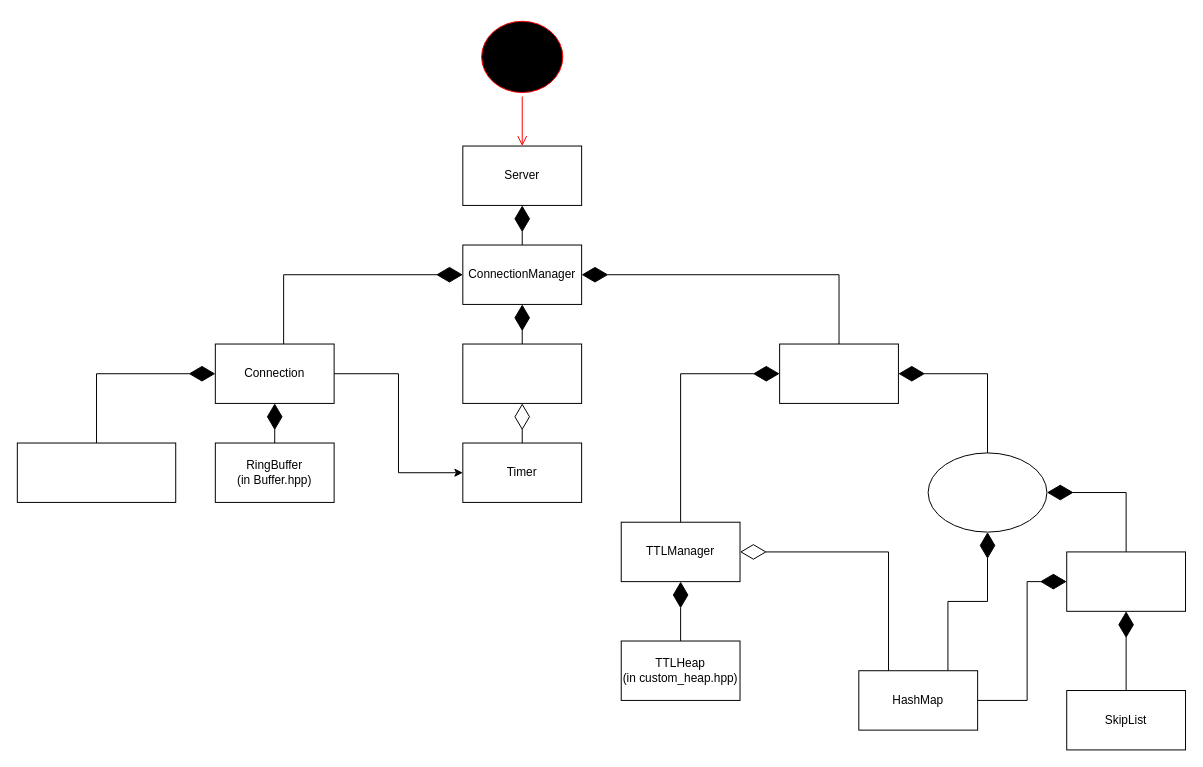
Some shapes in this 1203 by 767 pixel diagram are drawn without their labels. The shapes that lost their labels are listed below. From the top down, each one's box as (x1, y1, x2, y2) in pixels, then its label:
(462, 343, 582, 403): TimerManager
(779, 343, 898, 403): CommandExec (in Commands.hpp)
(16, 442, 176, 502): Protocol (in RequestParser.hpp)
(927, 452, 1047, 532): Database (only for a generalized notion, not a real class)
(1066, 551, 1186, 611): SortSet
